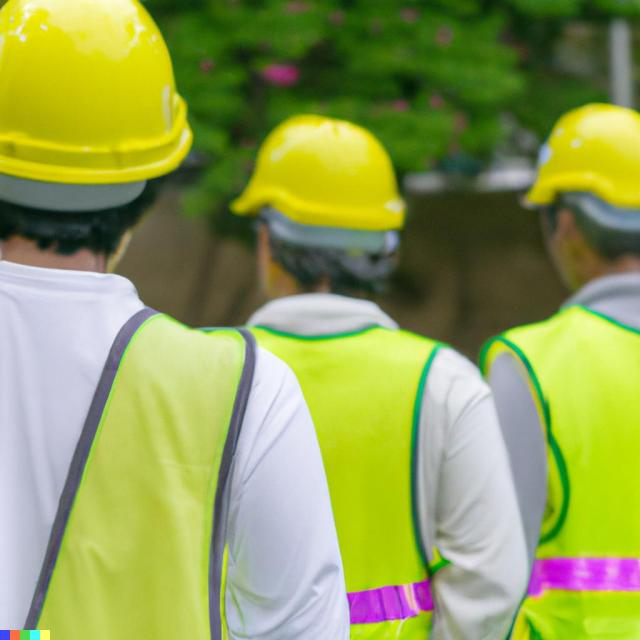Reflective-Jacket: (1, 281, 274, 636), (231, 301, 457, 638), (479, 289, 637, 640)
Safety-Helmet: (0, 4, 196, 186), (227, 108, 415, 241), (517, 96, 640, 220)
